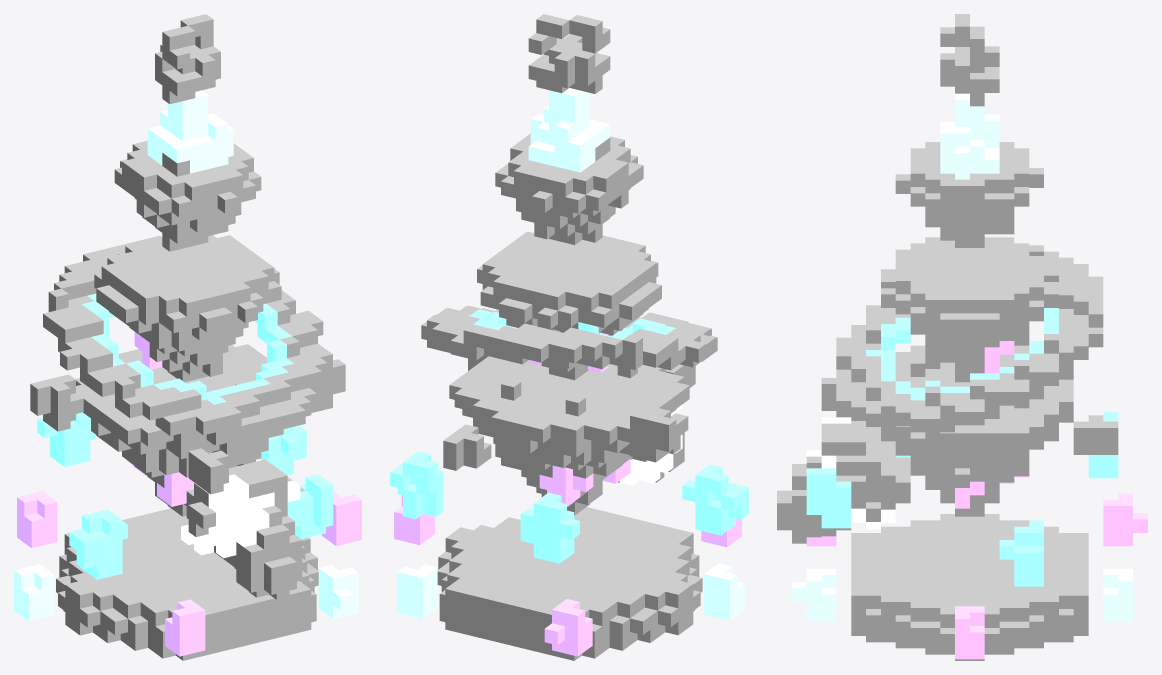
File: IceDrill_B_T4.fbx
The picture shows the model from 3 angles, left to right: view 1: azimuth 30°, elevation 25°; view 2: azimuth 150°, elevation 25°; view 3: azimuth 270°, elevation 25°; orthographic projection.
Visible parts, largest first — view 1: IceDrillT4Moonstone, IceDrillT4Gold, IceDrillT4ArcaneDeep, IceDrillT4StoneDark, IceDrillT4AuroraGreenGlow, IceDrillT4CrystalCyanGlow, IceDrillT4RuneVioletGlow, IceDrillT4RuneViolet, IceDrillT4RuneGlowGlow, IceDrillT4FrostLight; view 2: IceDrillT4Moonstone, IceDrillT4Gold, IceDrillT4StoneDark, IceDrillT4ArcaneDeep, IceDrillT4AuroraGreenGlow, IceDrillT4CrystalCyanGlow, IceDrillT4FrostLight, IceDrillT4RuneVioletGlow, IceDrillT4RuneGlowGlow; view 3: IceDrillT4Moonstone, IceDrillT4Gold, IceDrillT4ArcaneDeep, IceDrillT4StoneDark, IceDrillT4AuroraGreenGlow, IceDrillT4CrystalCyanGlow, IceDrillT4RuneVioletGlow, IceDrillT4FrostLight, IceDrillT4RuneViolet, IceDrillT4RuneGlowGlow.
Boxes of the visible parts, <box> form: IceDrillT4Moonstone: <box>63,140,321,641</box>; IceDrillT4Gold: <box>75,14,283,518</box>; IceDrillT4ArcaneDeep: <box>43,235,327,605</box>; IceDrillT4StoneDark: <box>30,198,345,660</box>; IceDrillT4AuroraGreenGlow: <box>37,293,333,579</box>; IceDrillT4CrystalCyanGlow: <box>14,90,358,620</box>; IceDrillT4RuneVioletGlow: <box>17,332,361,656</box>; IceDrillT4RuneViolet: <box>214,502,302,599</box>; IceDrillT4RuneGlowGlow: <box>181,474,300,558</box>; IceDrillT4FrostLight: <box>127,244,248,384</box>; IceDrillT4Moonstone: <box>427,136,709,639</box>; IceDrillT4Gold: <box>449,14,689,480</box>; IceDrillT4StoneDark: <box>437,200,702,660</box>; IceDrillT4ArcaneDeep: <box>421,305,717,605</box>; IceDrillT4AuroraGreenGlow: <box>390,309,748,563</box>; IceDrillT4CrystalCyanGlow: <box>397,88,744,620</box>; IceDrillT4FrostLight: <box>496,239,635,415</box>; IceDrillT4RuneVioletGlow: <box>394,332,741,656</box>; IceDrillT4RuneGlowGlow: <box>619,404,682,485</box>; IceDrillT4Moonstone: <box>821,142,1088,641</box>; IceDrillT4Gold: <box>836,14,1058,503</box>; IceDrillT4ArcaneDeep: <box>836,245,1103,607</box>; IceDrillT4StoneDark: <box>821,213,1118,660</box>; IceDrillT4AuroraGreenGlow: <box>806,308,1118,586</box>; IceDrillT4CrystalCyanGlow: <box>792,93,1132,621</box>; IceDrillT4RuneVioletGlow: <box>806,341,1147,659</box>; IceDrillT4FrostLight: <box>910,249,1029,414</box>; IceDrillT4RuneViolet: <box>777,456,851,543</box>; IceDrillT4RuneGlowGlow: <box>806,417,895,529</box>.
Size of the model in its own units: 325 by 538 by 312.
